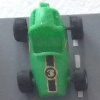verde_sur: (14, 2, 89, 100)
